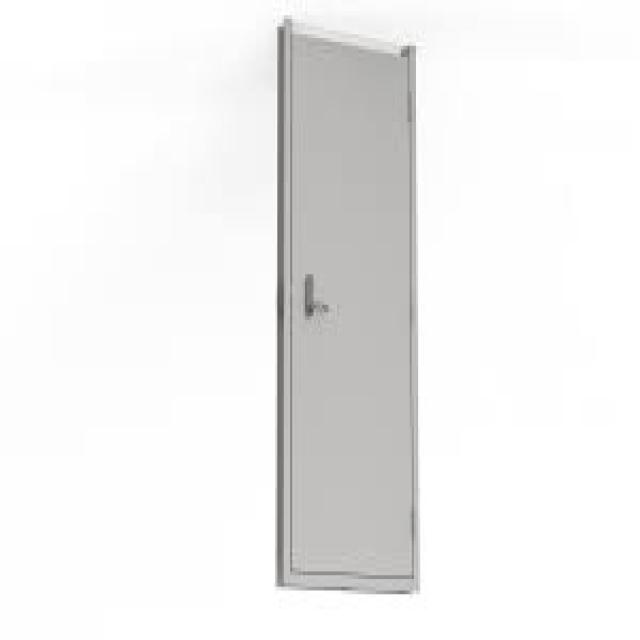door: (276, 21, 419, 596)
